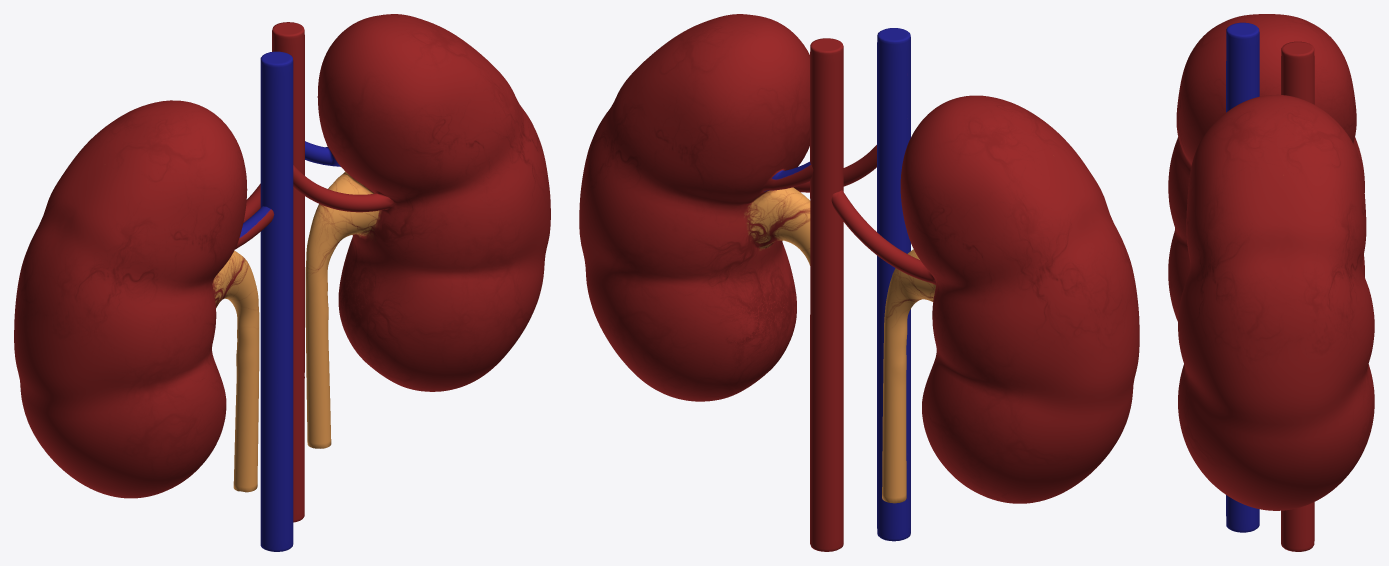
Rendered from human_kidney.glb.
3 views of the same model, side by side, from view 1: azimuth 30°, elevation 25°; view 2: azimuth 150°, elevation 25°; view 3: azimuth 270°, elevation 25° (orthographic). The views are drawn at different scales.
Visible parts, largest first — view 1: kidney02:kidney03:Group12708, Group12708; view 2: kidney02:kidney03:Group12708, Group12708; view 3: Group12708, kidney02:kidney03:Group12708.
Boxes of the visible parts, x1,y1,x2,y2 form: kidney02:kidney03:Group12708: (14,22,304,551); Group12708: (293,14,550,448); kidney02:kidney03:Group12708: (810,28,1139,551); Group12708: (579,14,876,401); Group12708: (1178,94,1374,510); kidney02:kidney03:Group12708: (1168,14,1364,551).
Size of the model in its own units: 1.72 by 1.55 by 0.5823.
Materials: 1 (1 with a texture image).
